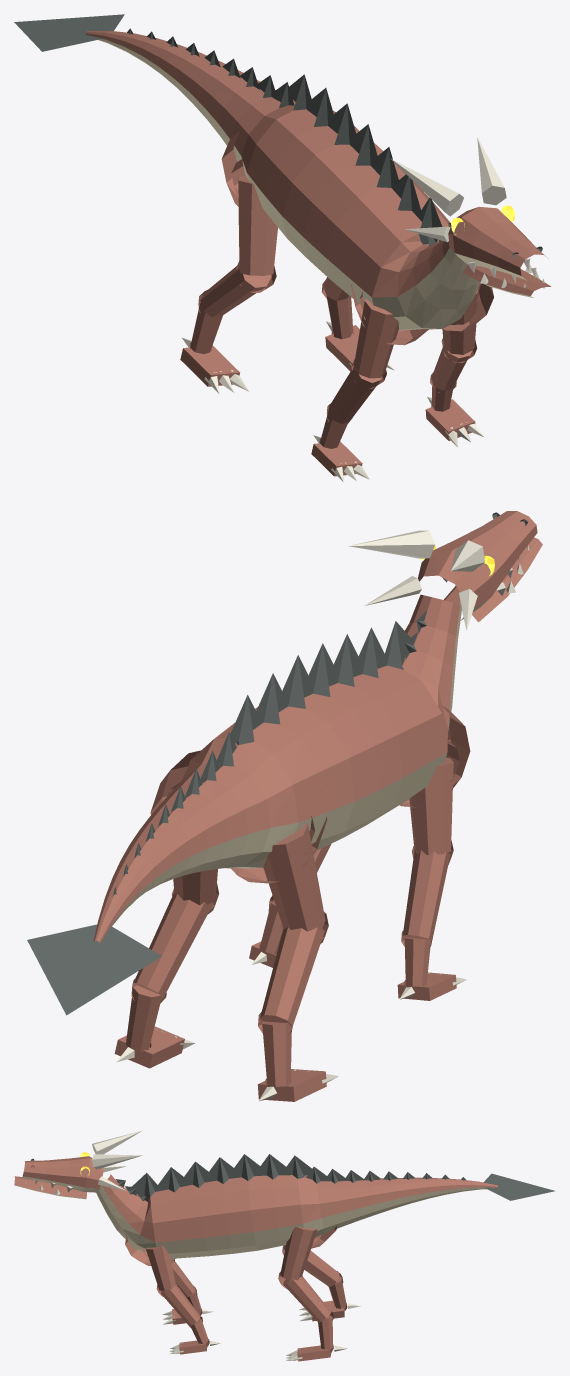
The model's file is dragons-and-wyverns-drake-standing-alert-3fd987cb__36726.glb.
The picture shows the model from 3 angles, top to bottom: view 1: azimuth 30°, elevation 25°; view 2: azimuth 150°, elevation 25°; view 3: azimuth 270°, elevation 25°; orthographic projection. The views are drawn at different scales.
Visible parts, largest first — view 1: drake-standing-alert; view 2: drake-standing-alert; view 3: drake-standing-alert.
Boxes of the visible parts, x1=… form: drake-standing-alert: x1=14, y1=14, x2=551, y2=481; drake-standing-alert: x1=27, y1=511, x2=542, y2=1101; drake-standing-alert: x1=14, y1=1130, x2=555, y2=1361.
Size of the model in its own units: 0.6779 by 1.23 by 3.05.
